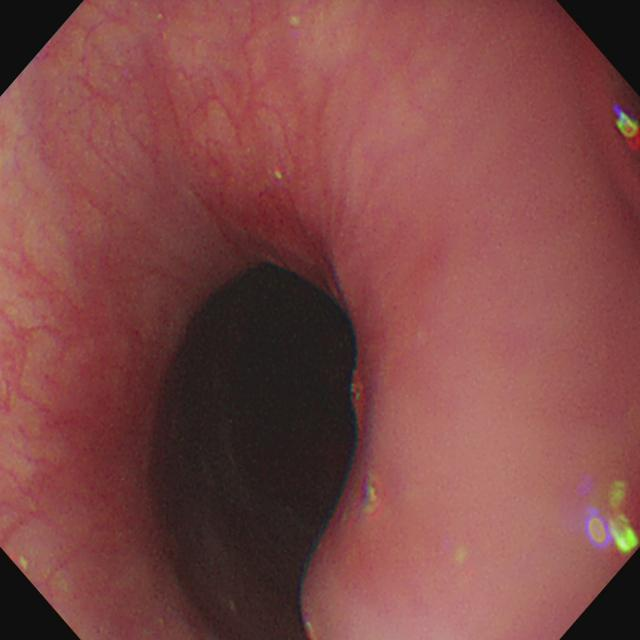E: (145, 261, 359, 640)
U: (592, 479, 639, 557), (614, 111, 640, 153)
